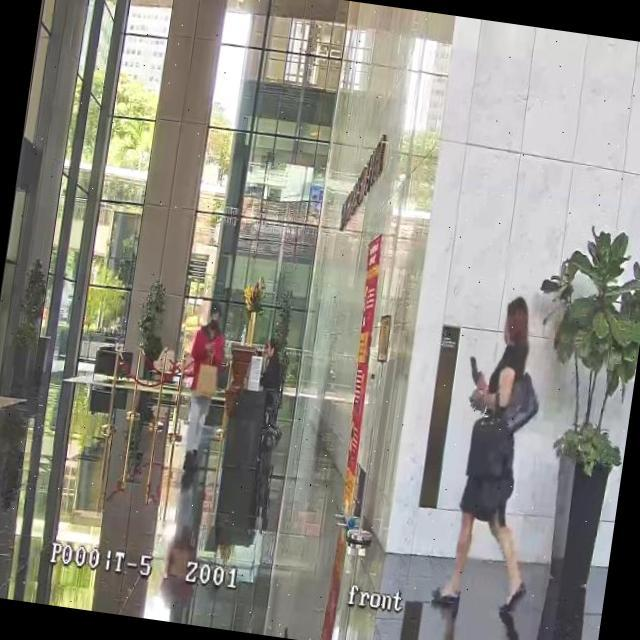person: (431, 290, 566, 616), (173, 300, 234, 479), (253, 336, 290, 426)
